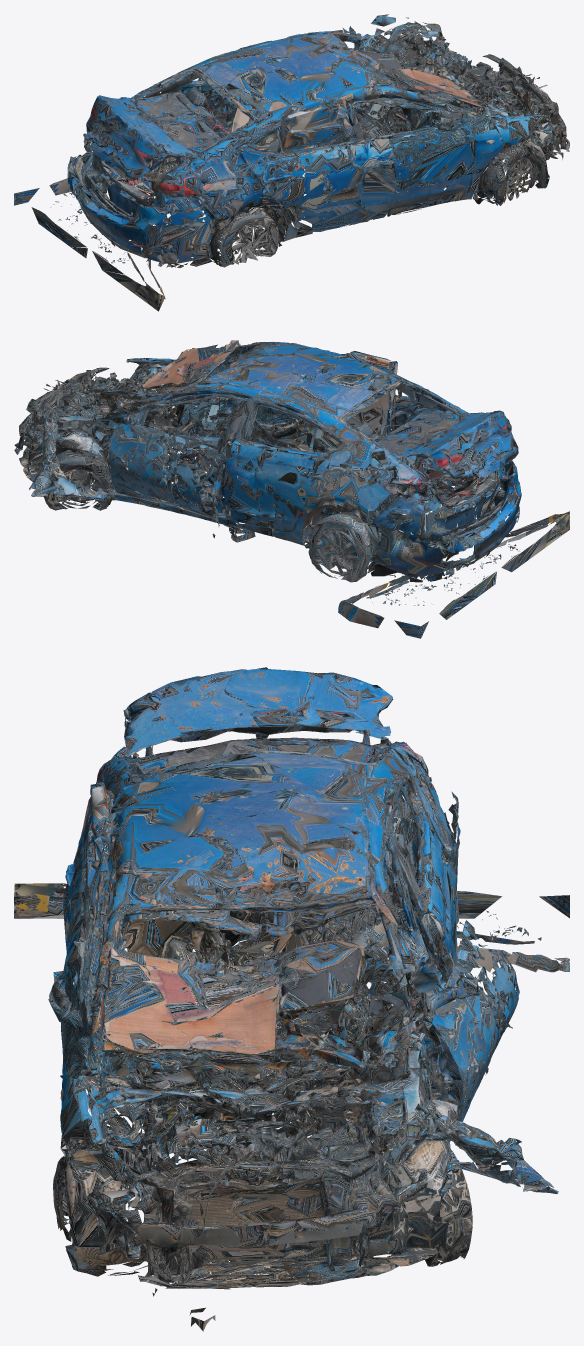
Rendered from car_burnt.glb.
The picture shows the model from 3 angles, top to bottom: view 1: azimuth 30°, elevation 25°; view 2: azimuth 150°, elevation 25°; view 3: azimuth 270°, elevation 25°; orthographic projection. The views are drawn at different scales.
Visible parts, largest first — view 1: Object_33, Object_16, Object_20, Object_5, Object_17, Object_7, Object_31, Object_11, Object_6, Object_8, Object_13, Object_12 (+16 smaller); view 2: Object_13, Object_5, Object_27, Object_14, Object_2, Object_12, Object_11, Object_32, Object_20, Object_7, Object_18, Object_30 (+19 smaller); view 3: Object_7, Object_5, Object_21, Object_31, Object_11, Object_23, Object_28, Object_13, Object_12, Object_3, Object_32, Object_26 (+18 smaller).
Boxes of the visible parts, x1,y1,x2,y2 form: Object_33: (142,97,308,225); Object_16: (301,17,476,232); Object_20: (71,67,369,268); Object_5: (83,32,384,196); Object_17: (387,96,495,192); Object_7: (142,34,433,222); Object_31: (190,30,385,267); Object_11: (87,54,522,170); Object_6: (356,84,505,216); Object_8: (39,141,215,293); Object_13: (145,14,395,115); Object_12: (222,26,481,207); Object_13: (103,379,378,468); Object_5: (195,358,518,523); Object_27: (167,423,279,542); Object_14: (304,465,554,621); Object_2: (366,505,495,619); Object_12: (29,359,387,504); Object_11: (19,374,504,514); Object_32: (166,340,428,638); Object_20: (293,344,526,595); Object_7: (180,342,513,486); Object_18: (29,360,174,510); Object_30: (272,438,378,548); Object_7: (65,710,434,1013); Object_5: (152,669,458,975); Object_21: (134,1008,484,1331); Object_31: (73,804,402,983); Object_11: (60,667,431,1231); Object_23: (56,1021,249,1296); Object_28: (54,757,246,1276); Object_13: (251,750,441,993); Object_12: (101,751,558,1193); Object_3: (173,955,450,1143); Object_32: (49,865,569,1092); Object_26: (77,875,305,1289).
Bounding box in the file's own units: 4.23 × 1.38 × 2.33.
Materials: 32 (32 with a texture image).
